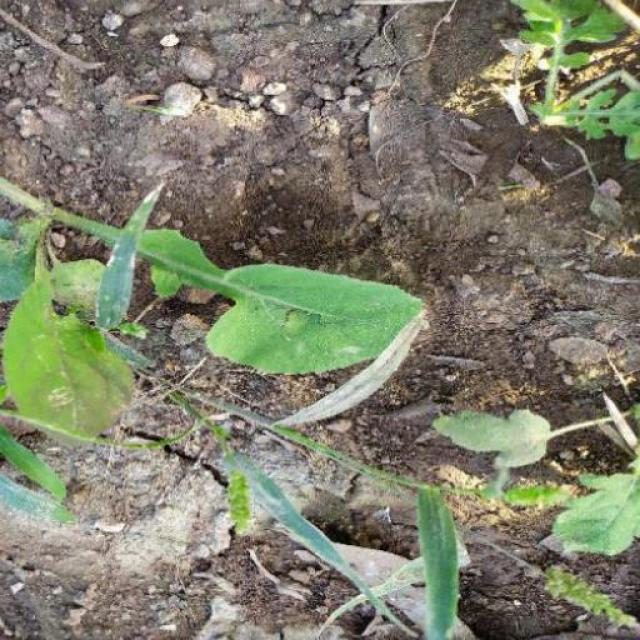weed: (29, 161, 438, 450)
